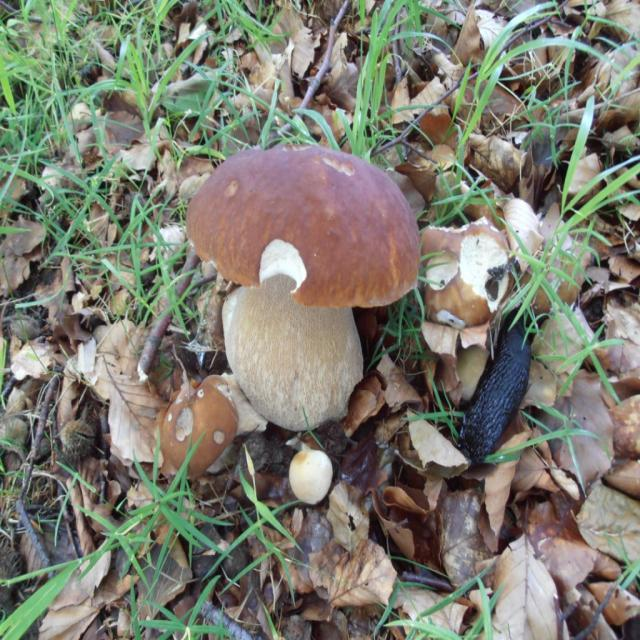Boletus: (188, 145, 415, 430)
